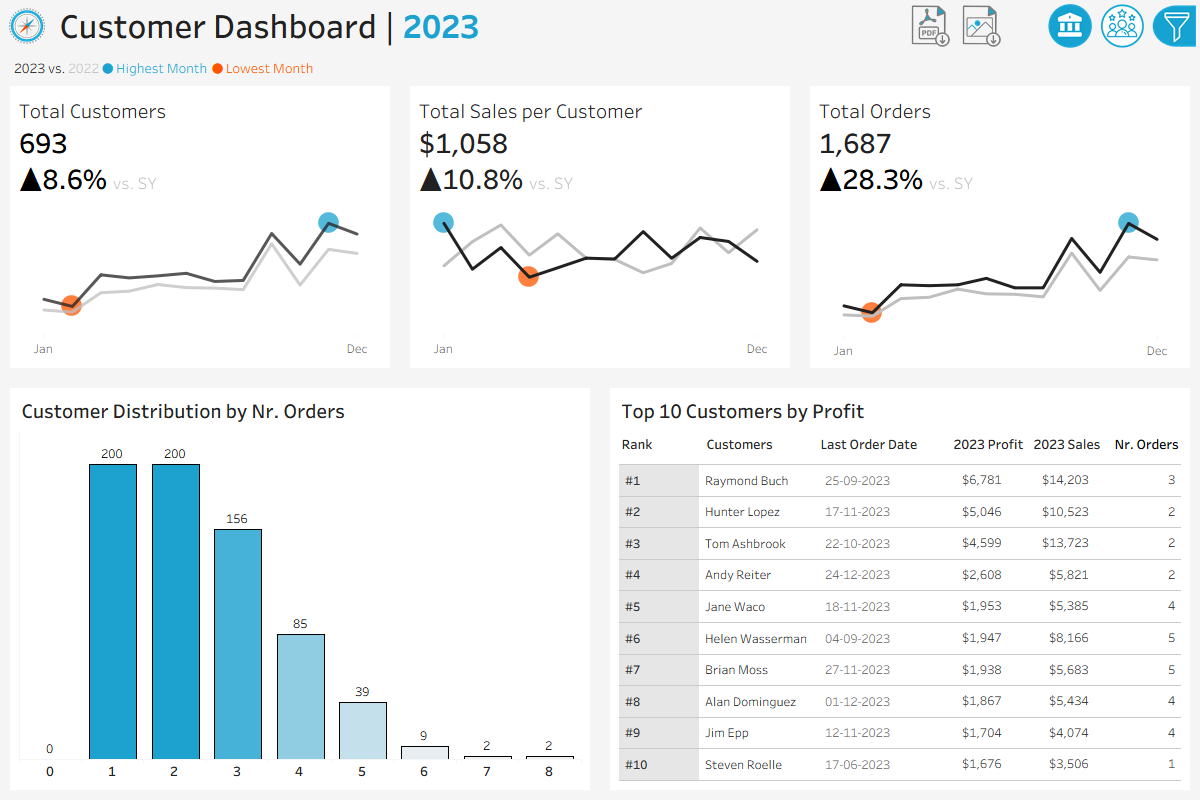

The dashboard page shown, as its layout file describes it:
{"tool":"tableau","page":{"name":"Customers Dashboard","canvas":[1200,800],"ordinal":0},"visuals":[{"type":"image","param":"Image/Icon - Logo.png","box":[0,0,53.3,51]},{"type":"text","box":[53.3,0,850,51]},{"type":"dashboard-object","box":[903.3,0,51,51]},{"type":"dashboard-object","box":[954.3,0,51,51]},{"type":"blank","box":[1008.7,0,35,51]},{"type":"dashboard-object","box":[1044,0,52,51]},{"type":"dashboard-object","box":[1096,0,52,51]},{"type":"dashboard-object","box":[1148,0,52,51]},{"type":"worksheet","title":"Legend KPI","mark":"Automatic","box":[0,51,1200,35]},{"type":"worksheet","title":"KPI Customers","mark":"Line","rows":["Min/Max Profit (copy)_0895619974606859"],"cols":["Order Date"],"box":[0,86,400,292]},{"type":"worksheet","title":"KPI Sales per Customer","mark":"Line","rows":["Min/Max Orders (copy)_0886274242637831"],"cols":["Order Date"],"box":[400,86,400,292]},{"type":"worksheet","title":"KPI Orders","mark":"Line","rows":["Min/Max Customers (copy)_0886274241306625"],"cols":["Order Date"],"box":[800,86,400,292]},{"type":"parameter","param":"[Parameters].[Parameter 1]","box":[939,87,242,60]},{"type":"parameter","param":"[Parameters].[Choose Primary Year (copy)_0336792909492229]","box":[939,147,242,60]},{"type":"text","box":[939,207,242,50]},{"type":"filter","title":"KPI Customers","param":"[federated.0j6tzli15aromr19julgg1s33fei].[none:Category:nk]","box":[939,257,242,110]},{"type":"filter","title":"Customer Distribution","param":"[federated.0j6tzli15aromr19julgg1s33fei].[none:Sub-Category:nk]","box":[939,367,242,60]},{"type":"text","box":[15,393,570,35]},{"type":"text","box":[615,393,570,35]},{"type":"text","box":[939,427,242,50]},{"type":"worksheet","title":"Customer Distribution","mark":"Bar","rows":["PY Profit (copy)_0895619974057992"],"cols":["Calculation_0886274246070288"],"box":[15,428,570,357]},{"type":"text","box":[615,428,85,32]},{"type":"text","box":[700,428,114,32]},{"type":"text","box":[814,428,133,32]},{"type":"text","box":[947,428,80,32]},{"type":"text","box":[1027,428,81,32]},{"type":"text","box":[1108,428,77,32]},{"type":"worksheet","title":"Top Customers","mark":"Automatic","rows":["Calculation_0886274249965588","Customer Name","Order Date"],"box":[615,460,570,325]},{"type":"filter","title":"KPI Customers","param":"[federated.0j6tzli15aromr19julgg1s33fei].[none:Region:nk]","box":[939,477,242,130]},{"type":"filter","title":"KPI Customers","param":"[federated.0j6tzli15aromr19julgg1s33fei].[none:State:nk]","box":[939,607,242,60]},{"type":"filter","title":"KPI Customers","param":"[federated.0j6tzli15aromr19julgg1s33fei].[none:City:nk]","box":[939,667,242,60]}]}

Visuals, with their boxes in screenshot pixels (x1, y1, x2, y2), scaled from the page's 1200x800 canvas onto the 1200x800 screenshot:
image: crop(0, 0, 53, 51)
text: crop(53, 0, 903, 51)
dashboard-object: crop(903, 0, 954, 51)
dashboard-object: crop(954, 0, 1005, 51)
blank: crop(1009, 0, 1044, 51)
dashboard-object: crop(1044, 0, 1096, 51)
dashboard-object: crop(1096, 0, 1148, 51)
dashboard-object: crop(1148, 0, 1199, 51)
"Legend KPI" worksheet: crop(0, 51, 1199, 86)
"KPI Customers" worksheet (Line marks): crop(0, 86, 400, 378)
"KPI Sales per Customer" worksheet (Line marks): crop(400, 86, 800, 378)
"KPI Orders" worksheet (Line marks): crop(800, 86, 1199, 378)
parameter: crop(939, 87, 1181, 147)
parameter: crop(939, 147, 1181, 207)
text: crop(939, 207, 1181, 257)
"KPI Customers" filter: crop(939, 257, 1181, 367)
"Customer Distribution" filter: crop(939, 367, 1181, 427)
text: crop(15, 393, 585, 428)
text: crop(615, 393, 1185, 428)
text: crop(939, 427, 1181, 477)
"Customer Distribution" worksheet (Bar marks): crop(15, 428, 585, 785)
text: crop(615, 428, 700, 460)
text: crop(700, 428, 814, 460)
text: crop(814, 428, 947, 460)
text: crop(947, 428, 1027, 460)
text: crop(1027, 428, 1108, 460)
text: crop(1108, 428, 1185, 460)
"Top Customers" worksheet: crop(615, 460, 1185, 785)
"KPI Customers" filter: crop(939, 477, 1181, 607)
"KPI Customers" filter: crop(939, 607, 1181, 667)
"KPI Customers" filter: crop(939, 667, 1181, 727)
